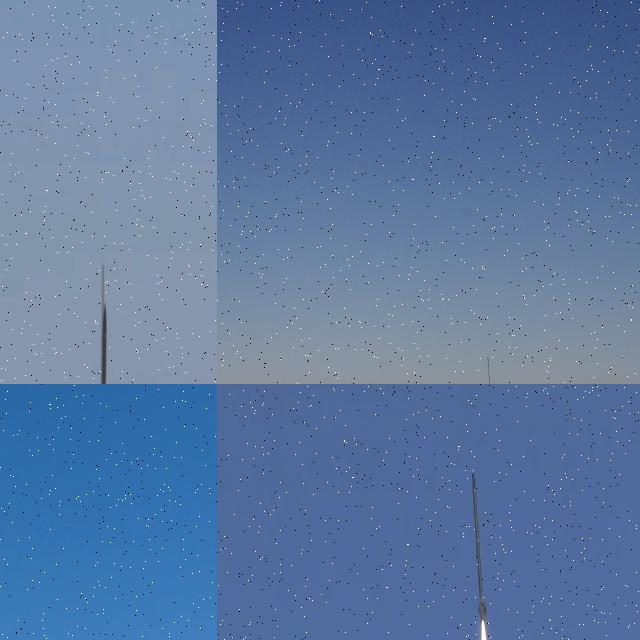Rocket: (472, 468, 488, 619), (96, 302, 107, 384)
